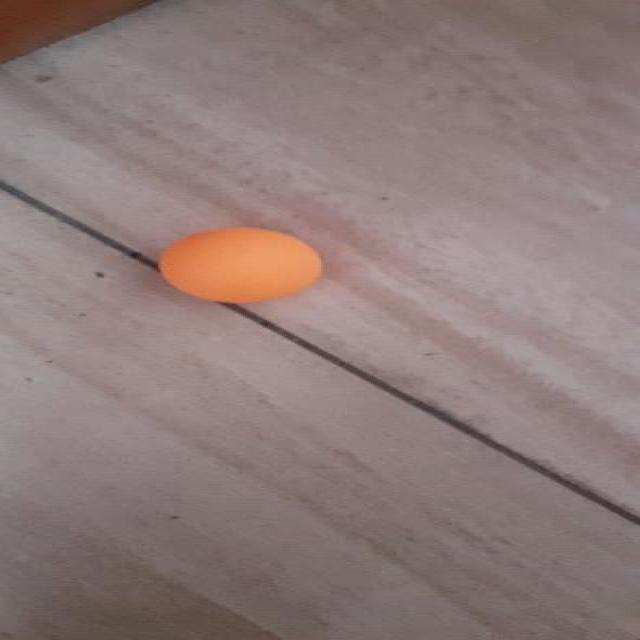oball: (159, 228, 320, 302)
